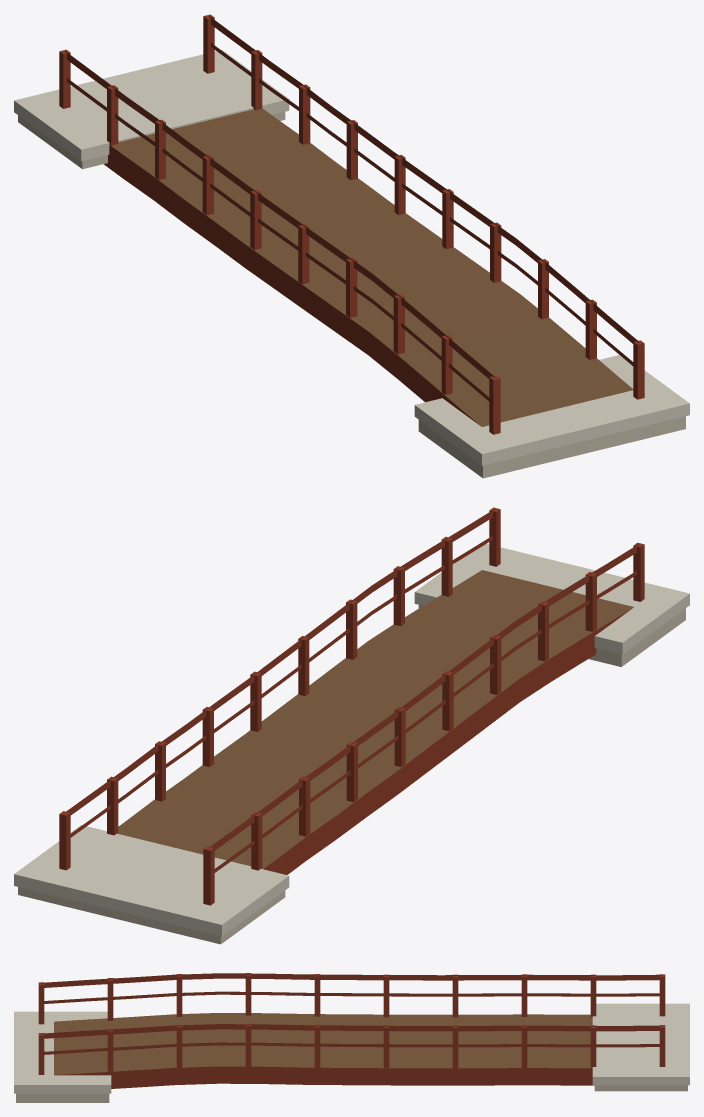
3 views of the same model, one above another, from view 1: azimuth 30°, elevation 25°; view 2: azimuth 150°, elevation 25°; view 3: azimuth 270°, elevation 25° (orthographic). The views are drawn at different scales.
Visible parts, largest first — view 1: YM03-21 如意桥 Ruyi Qiao; view 2: YM03-21 如意桥 Ruyi Qiao; view 3: YM03-21 如意桥 Ruyi Qiao.
Boxes of the visible parts, x1,y1,x2,y2 form: YM03-21 如意桥 Ruyi Qiao: (14,14,689,478); YM03-21 如意桥 Ruyi Qiao: (14,507,689,944); YM03-21 如意桥 Ruyi Qiao: (14,973,689,1102).
Size of the model in its own units: 4.1 by 1.79 by 15.98.
